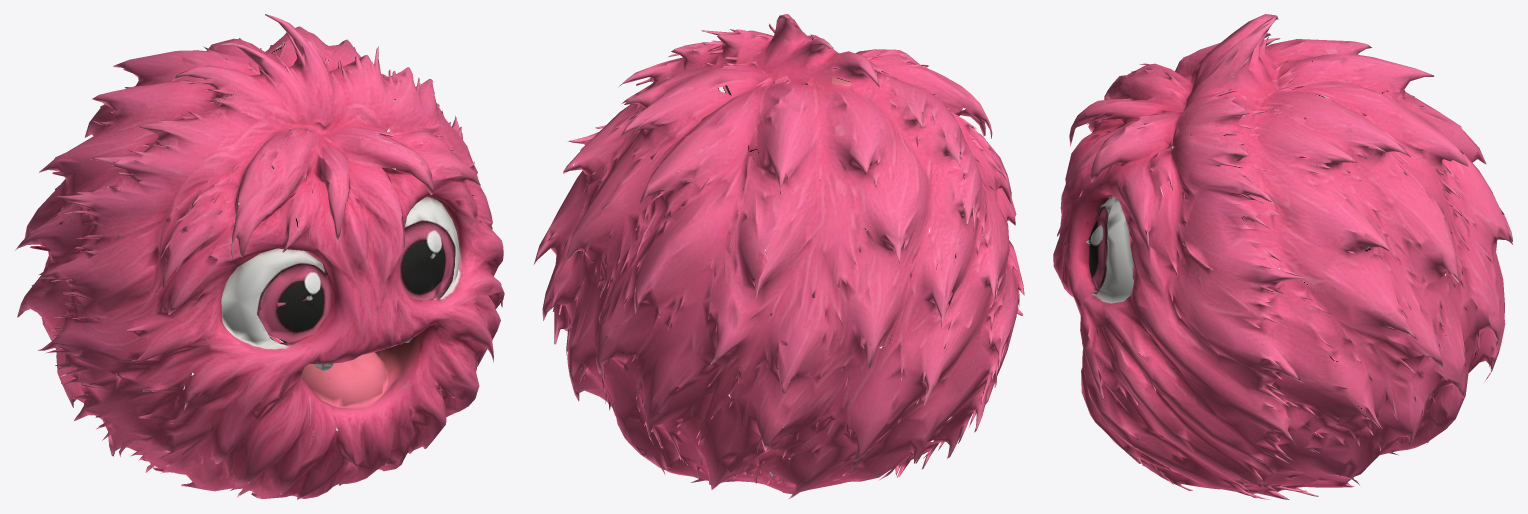
File: fuzzy-rider.glb
The picture shows the model from 3 angles, left to right: view 1: azimuth 30°, elevation 25°; view 2: azimuth 150°, elevation 25°; view 3: azimuth 270°, elevation 25°; orthographic projection.
Parts seen in each view (by area): view 1: fuzzy; view 2: fuzzy; view 3: fuzzy.
Part boxes in pixels (left/top/right/bottom): fuzzy: left=15, top=14, right=504, bottom=499; fuzzy: left=533, top=14, right=1024, bottom=499; fuzzy: left=1053, top=14, right=1512, bottom=499.
Bounding box in the file's own units: 1.01 × 0.9978 × 0.9271.
1 material, 1 textured.
